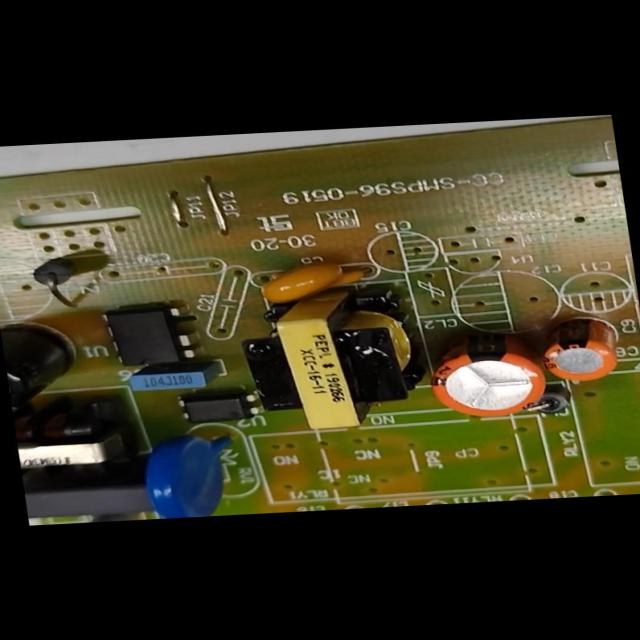Cap1: (427, 338, 546, 419)
Cap2: (540, 320, 622, 382)
Cap3: (0, 322, 83, 419)
MOSFET: (104, 304, 194, 366)
Mov: (141, 436, 230, 519)
Transformer: (246, 298, 425, 432), (14, 416, 117, 481)
